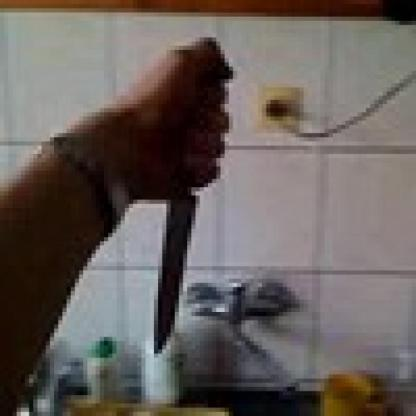Knife: (150, 50, 238, 354)
